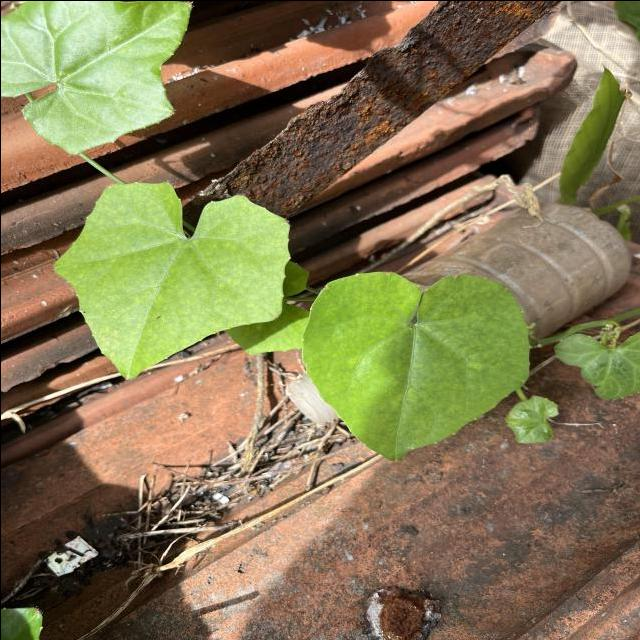Coccinia grandis: (50, 178, 292, 382), (299, 268, 531, 462)
